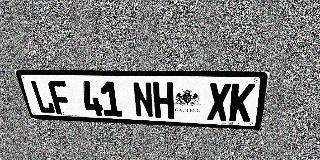1: (98, 81, 122, 117)
4: (79, 81, 104, 116)
F: (47, 80, 73, 115)
H: (152, 82, 174, 119)
K: (229, 83, 255, 122)
L: (29, 80, 56, 114)
N: (132, 82, 154, 118)
X: (207, 83, 231, 121)
